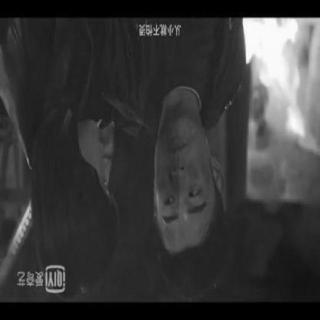Fire: (242, 18, 320, 154)
